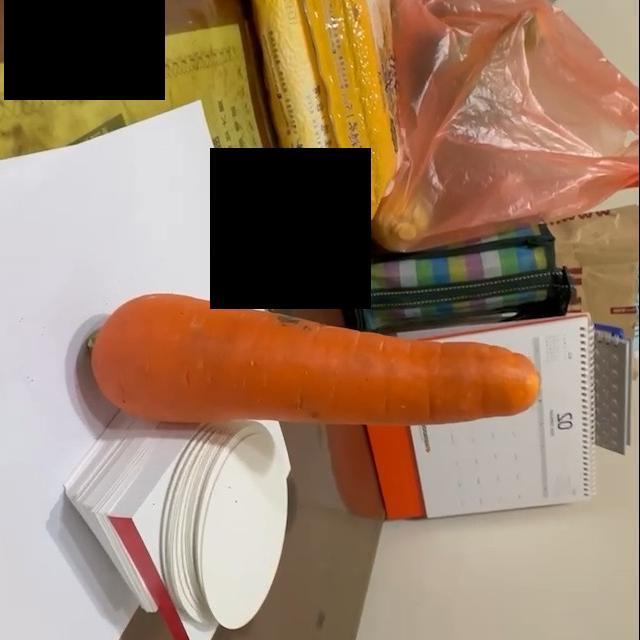carrot: (91, 292, 546, 429)
